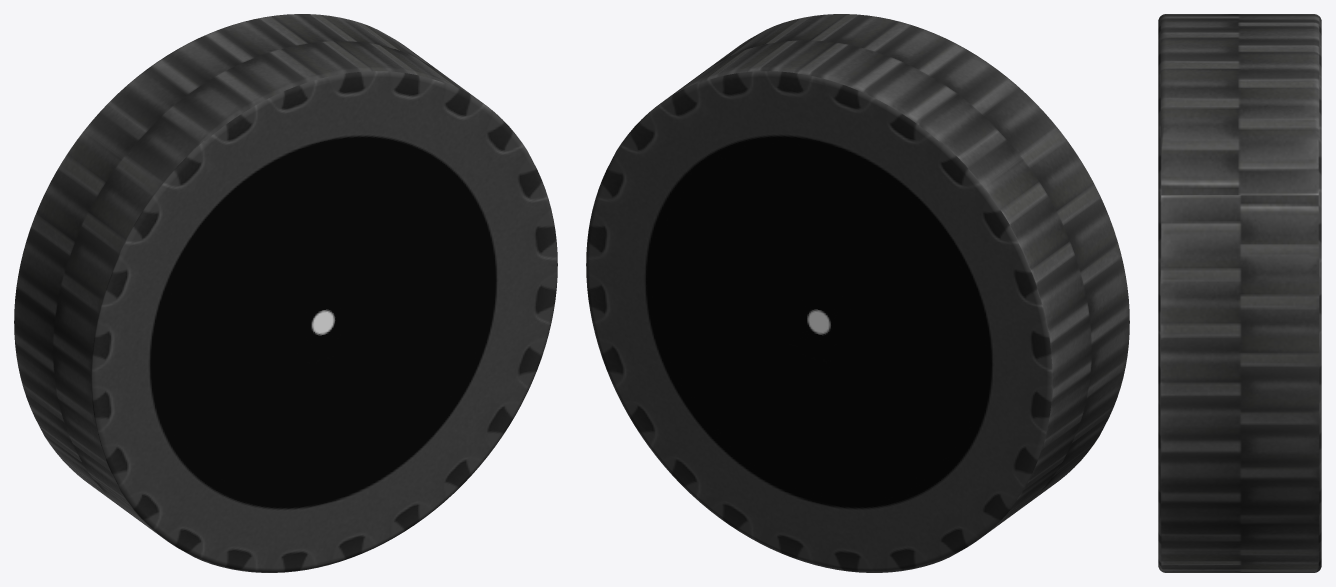
File: wheel.obj
3 views of the same model, side by side, from view 1: azimuth 30°, elevation 25°; view 2: azimuth 150°, elevation 25°; view 3: azimuth 270°, elevation 25° (orthographic). The views are drawn at different scales.
Size of the model in its own units: 0.0698 by 0.0704 by 0.0206.
